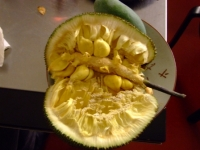jackfruit: (40, 11, 188, 149)
